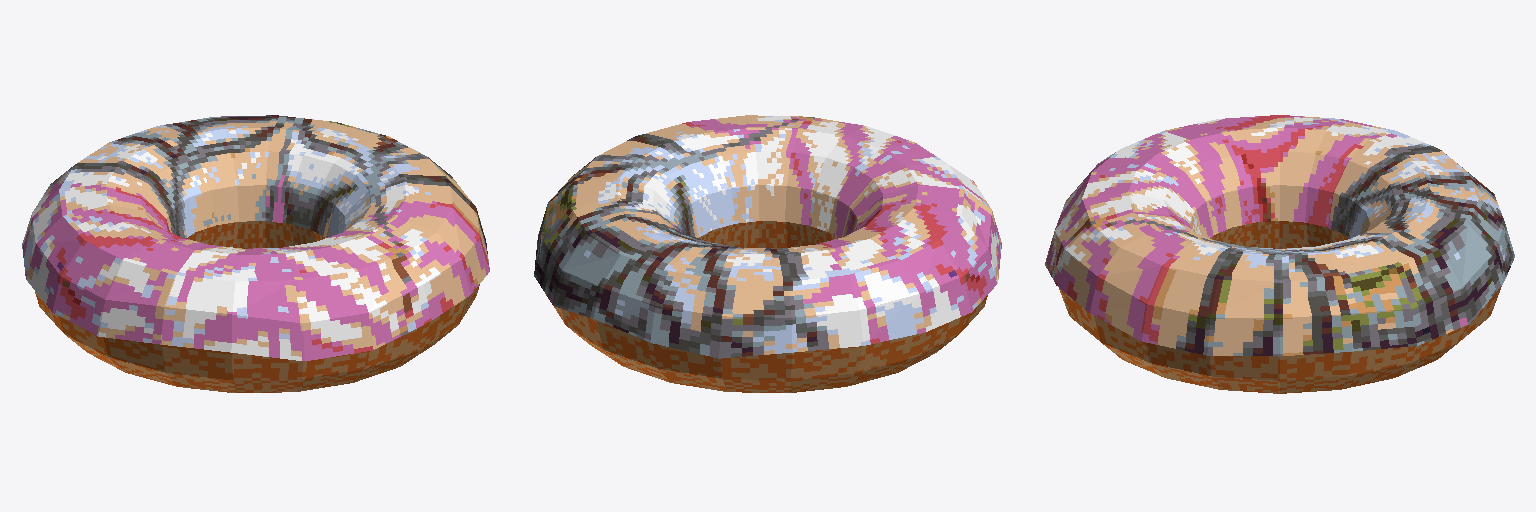
3 renders of one model, left to right at view 1: azimuth 30°, elevation 25°; view 2: azimuth 150°, elevation 25°; view 3: azimuth 270°, elevation 25°, orthographic.
Parts seen in each view (by area): view 1: doughnut_ps_baked; view 2: doughnut_ps_baked; view 3: doughnut_ps_baked.
Part boxes in pixels (left/top/right/bottom): doughnut_ps_baked: left=22, top=115, right=489, bottom=392; doughnut_ps_baked: left=534, top=115, right=1001, bottom=392; doughnut_ps_baked: left=1045, top=115, right=1514, bottom=393.
Size of the model in its own units: 1.28 by 0.3887 by 1.28.
Materials: 1 (1 with a texture image).